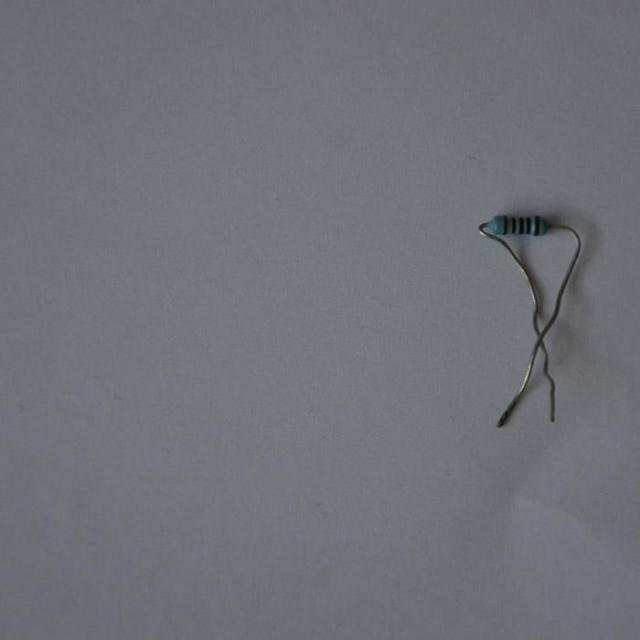Resistor: (489, 212, 550, 235)
